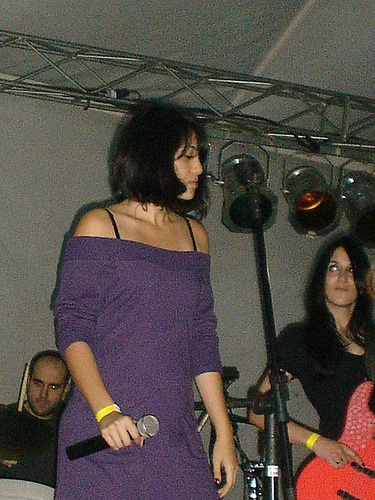head: (141, 109, 208, 212), (19, 346, 71, 420), (315, 237, 368, 307)
person: (51, 101, 236, 497), (249, 229, 372, 498), (1, 348, 72, 497)
